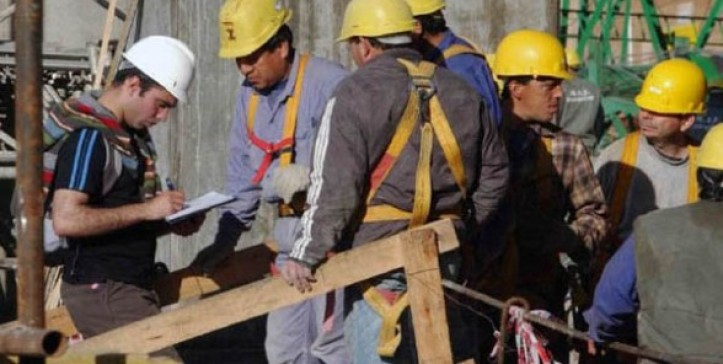casco: (120, 34, 199, 108), (215, 1, 294, 61), (492, 28, 577, 83), (633, 57, 709, 117), (332, 1, 420, 46), (695, 121, 723, 174), (401, 1, 449, 19), (564, 46, 582, 70)
